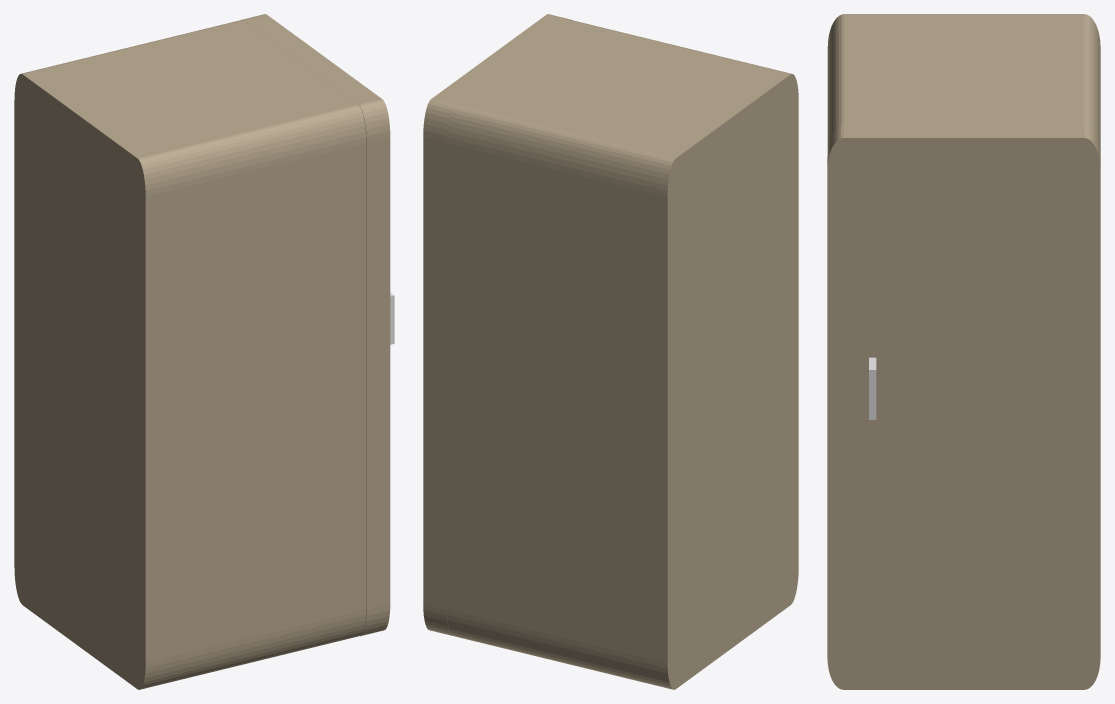
The model's file is fridge1.0.2.fbx.
3 renders of one model, left to right at view 1: azimuth 30°, elevation 25°; view 2: azimuth 150°, elevation 25°; view 3: azimuth 270°, elevation 25°, orthographic. The views are drawn at different scales.
Visible parts, largest first — view 1: Fridge, Door; view 2: Fridge, Door; view 3: Door, Fridge, Plane.
Part boxes in pixels (left/top/right/bottom): Fridge: left=14, top=20, right=366, bottom=689; Door: left=241, top=14, right=390, bottom=636; Fridge: left=447, top=20, right=798, bottom=689; Door: left=423, top=14, right=571, bottom=635; Door: left=827, top=126, right=1100, bottom=689; Fridge: left=827, top=14, right=1100, bottom=156; Plane: left=869, top=357, right=876, bottom=419.
Bounding box in the file's own units: 259 × 490 × 220.
